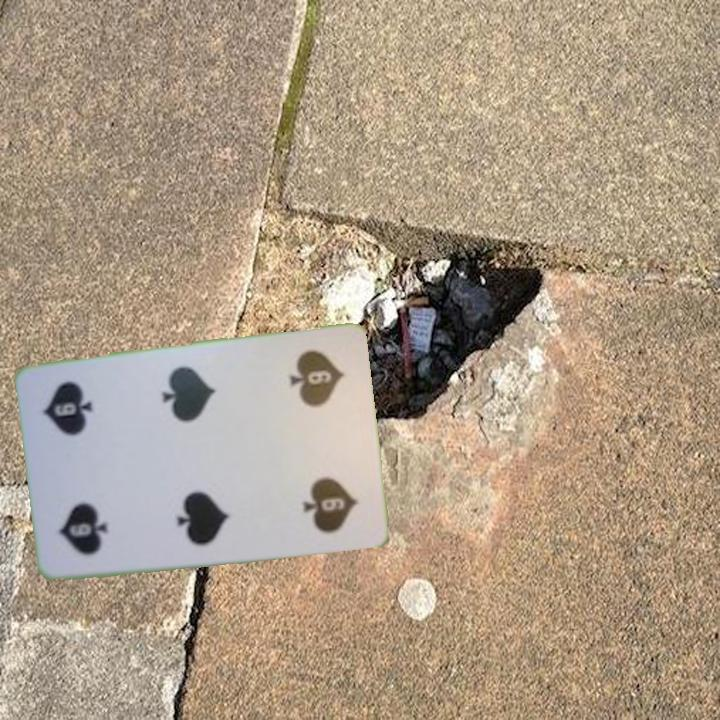s_6.png: (42, 460, 139, 569), (265, 338, 362, 447)
